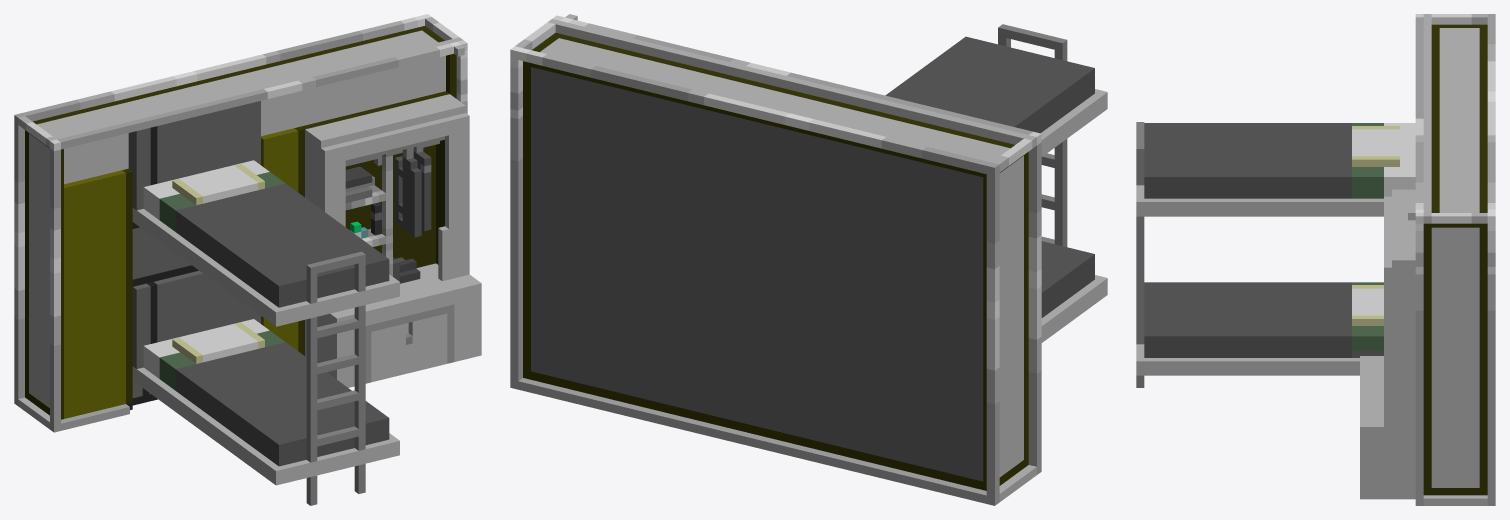
Rendered from Barraks Wall 1.obj.
3 renders of one model, left to right at view 1: azimuth 30°, elevation 25°; view 2: azimuth 150°, elevation 25°; view 3: azimuth 270°, elevation 25°, orthographic. The views are drawn at different scales.
Bounding box in the file's own units: 60 × 40 × 45.
1 material, 1 textured.
